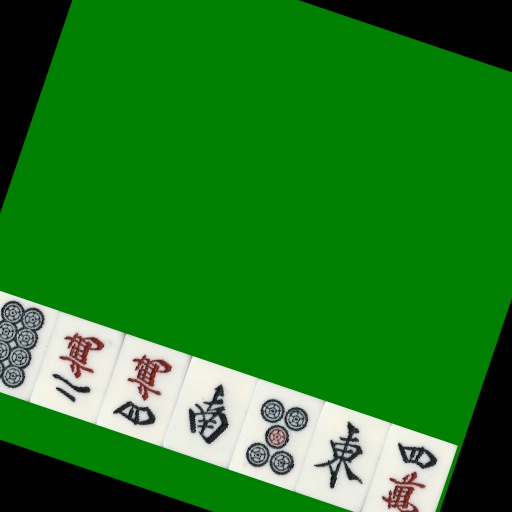2m: (71, 357, 149, 458)
4m: (141, 362, 219, 464), (420, 384, 498, 486)
5p: (281, 373, 358, 475)
8p: (2, 352, 79, 453)
east: (351, 379, 428, 480)
south: (211, 368, 288, 469)
